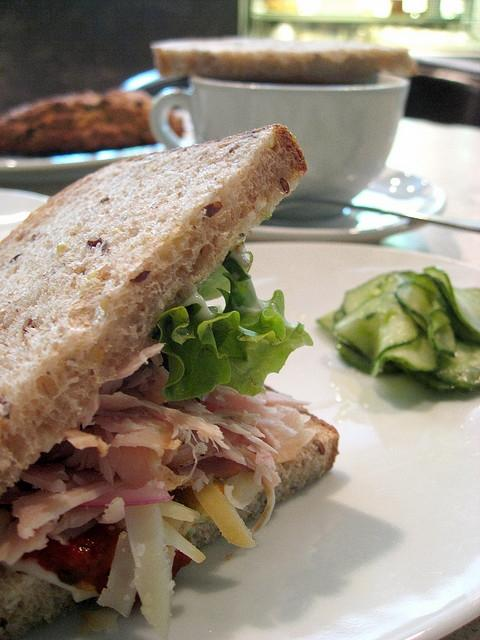cucumber: (334, 292, 420, 366), (395, 281, 455, 357), (422, 266, 480, 334), (426, 336, 479, 393), (378, 334, 436, 374), (395, 363, 462, 392), (342, 273, 388, 315), (316, 309, 339, 337), (378, 273, 404, 292)
lettuce: (156, 250, 312, 402), (200, 264, 230, 300)
